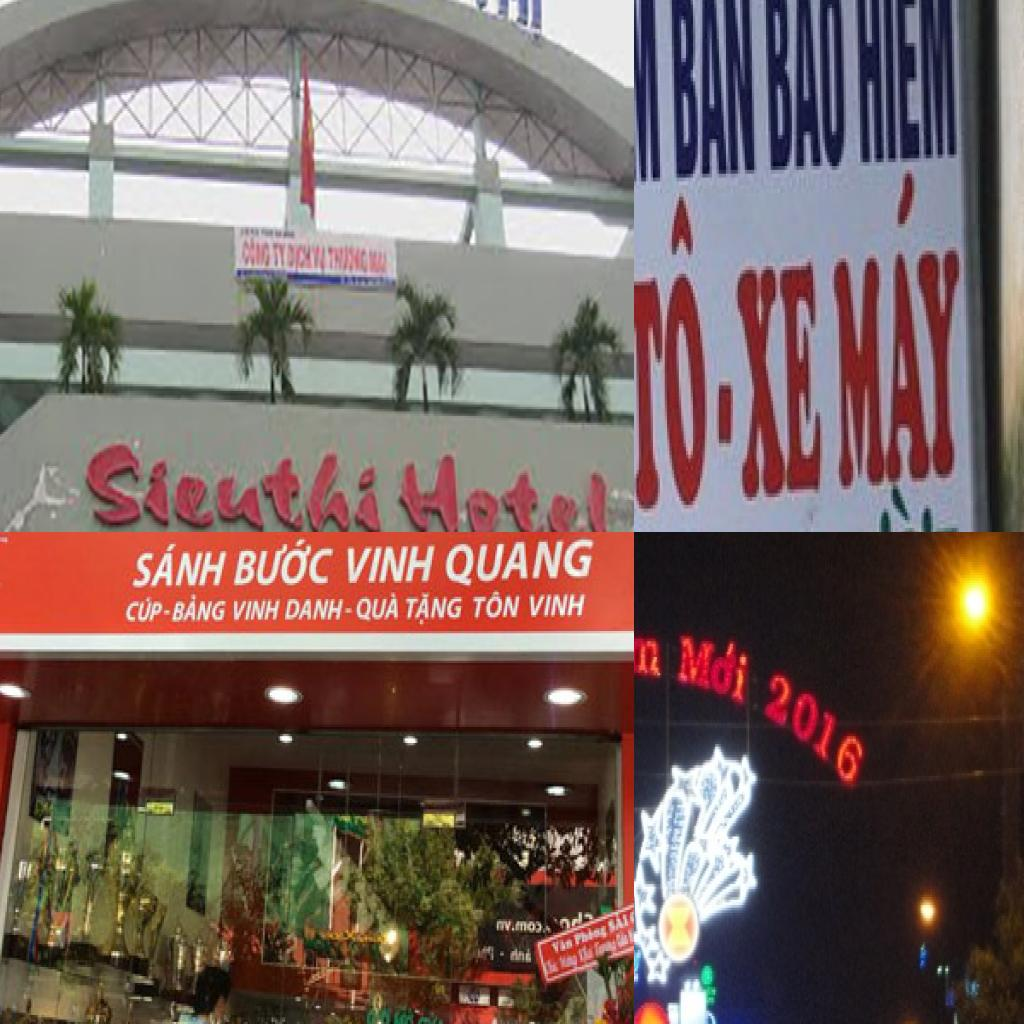text: (832, 166, 968, 489), (80, 422, 391, 532), (634, 189, 714, 520), (731, 250, 827, 508), (845, 0, 961, 173), (662, 0, 758, 181), (756, 0, 848, 177), (448, 535, 598, 590), (676, 628, 754, 710), (232, 532, 338, 592), (126, 537, 230, 590), (338, 540, 442, 588), (464, 0, 551, 53), (404, 592, 468, 629), (282, 594, 348, 626), (526, 592, 590, 624), (634, 622, 663, 688), (470, 592, 524, 627), (172, 594, 229, 626), (714, 374, 736, 451), (232, 596, 284, 628), (357, 590, 401, 626), (329, 241, 369, 277), (570, 919, 611, 951), (126, 594, 164, 626), (287, 240, 313, 272), (606, 908, 632, 937), (550, 933, 575, 960), (239, 227, 296, 238), (369, 248, 387, 280), (416, 1008, 450, 1024), (313, 241, 328, 277), (515, 917, 543, 935), (392, 1006, 418, 1024), (272, 241, 286, 270), (495, 916, 512, 932)
